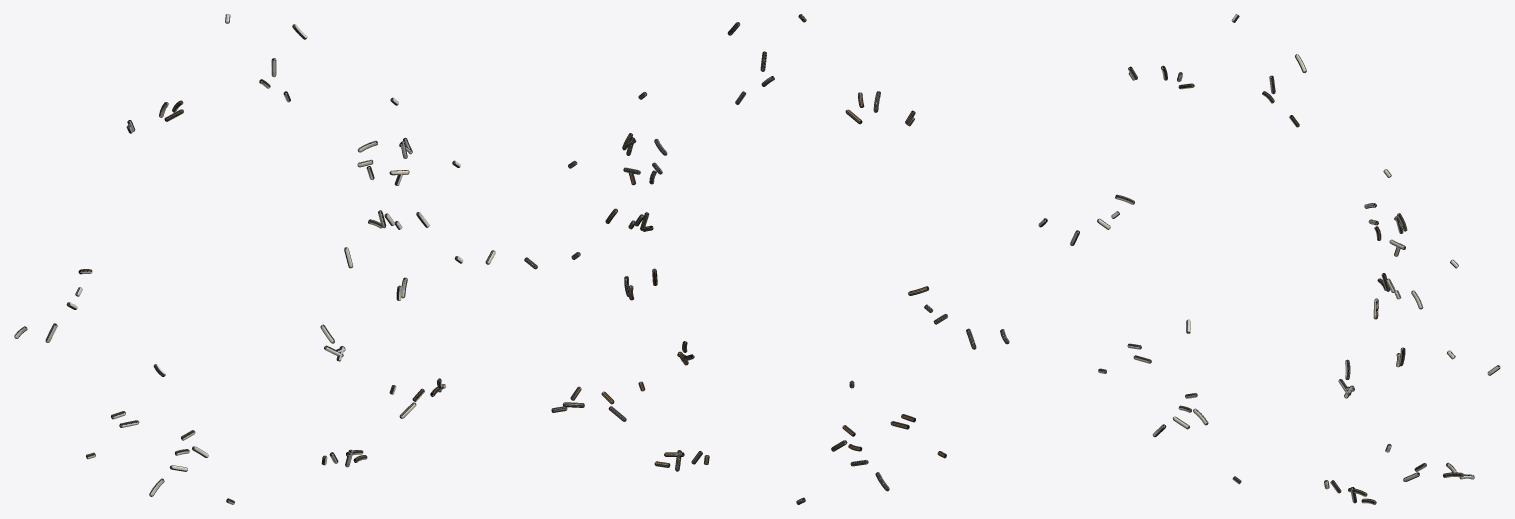
The picture shows the model from 3 angles, left to right: view 1: azimuth 30°, elevation 25°; view 2: azimuth 150°, elevation 25°; view 3: azimuth 330°, elevation 25°; orthographic projection. The views are drawn at different scales.
Size of the model in its own units: 0.8417 by 0.8187 by 0.0783.
